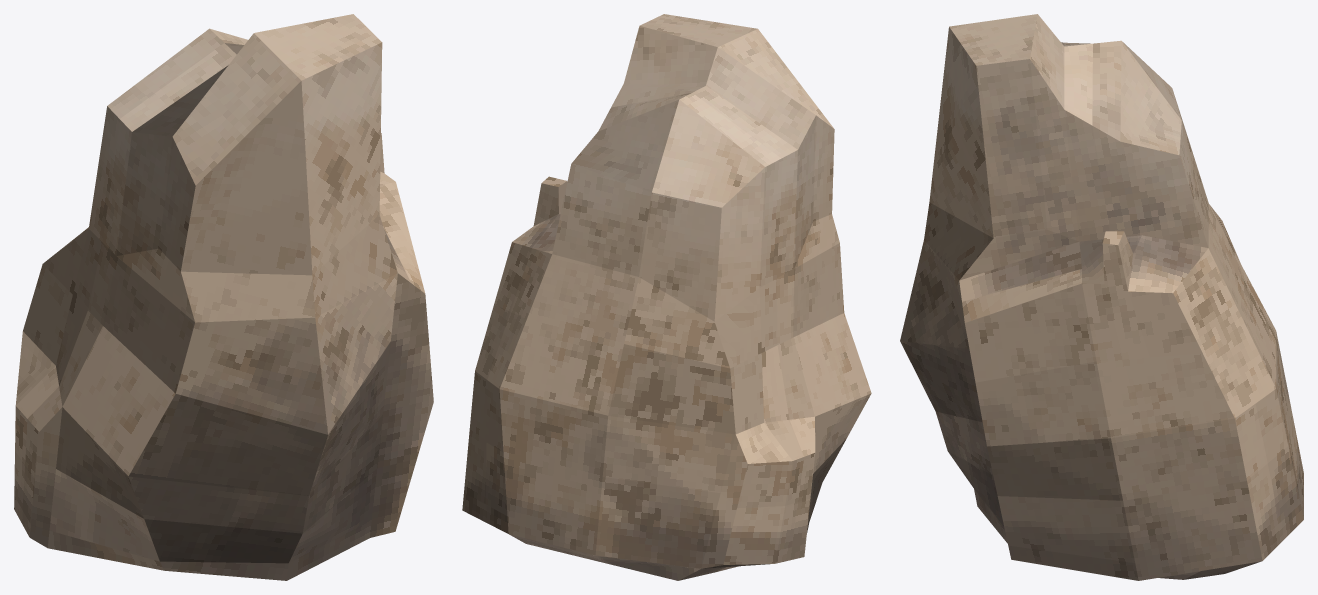
The model's file is MassiveRock1.gltf.
3 views of the same model, side by side, from view 1: azimuth 30°, elevation 25°; view 2: azimuth 150°, elevation 25°; view 3: azimuth 270°, elevation 25° (orthographic). The views are drawn at different scales.
Parts seen in each view (by area): view 1: MassiveRock; view 2: MassiveRock; view 3: MassiveRock.
Boxes of the visible parts, x1=… form: MassiveRock: x1=14, y1=14, x2=433, y2=580; MassiveRock: x1=462, y1=14, x2=871, y2=580; MassiveRock: x1=900, y1=14, x2=1303, y2=580.
Size of the model in its own units: 3.24 by 4.78 by 3.52.
1 material, 1 textured.
